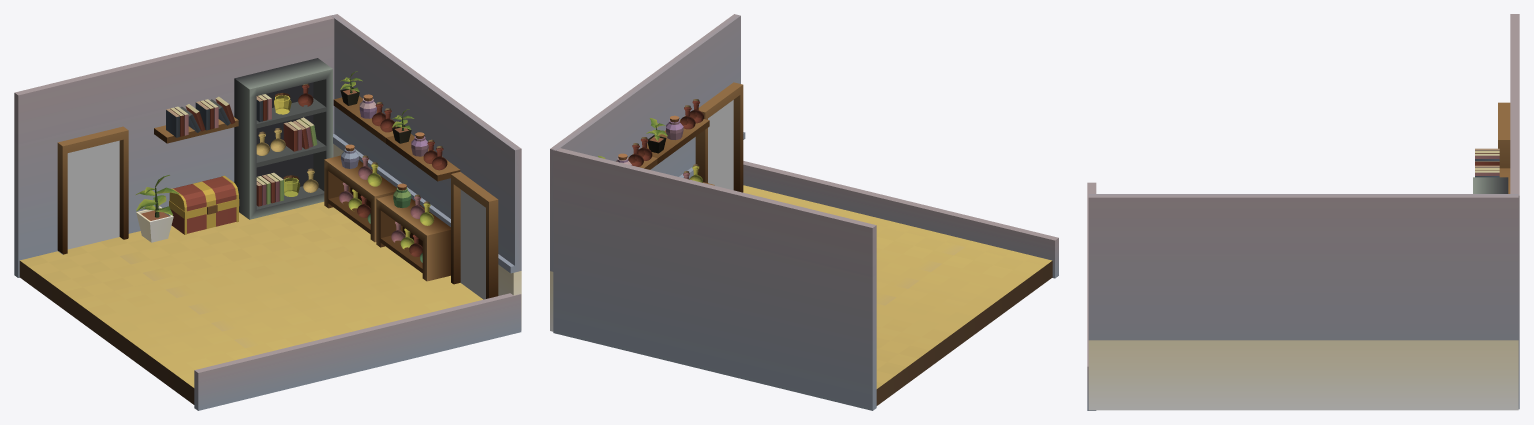
File: base_crafting.glb
3 views of the same model, side by side, from view 1: azimuth 30°, elevation 25°; view 2: azimuth 150°, elevation 25°; view 3: azimuth 270°, elevation 25° (orthographic). The views are drawn at different scales.
Parts seen in each view (by area): view 1: Cube, Plane, Plane001, Plane002, Cube014, Plane004, Plane007, Circle002, Circle004, Cube003, Plane009, Plane014 (+4 smaller); view 2: Plane, Cube, Plane001, Plane002, Plane007, Plane009, Plane014; view 3: Plane001, Plane, Plane004, Cube014, Plane002, Plane025.
Part boxes in pixels (x1,y1,x2,y2): Cube: (19,202,482,404); Plane: (14,15,334,277); Plane001: (331,14,521,330); Plane002: (194,293,521,410); Cube014: (234,58,332,219); Plane004: (57,126,128,254); Plane007: (451,172,498,299); Circle002: (376,183,450,281); Circle004: (324,144,396,242); Cube003: (169,175,239,234); Plane009: (386,109,460,181); Plane014: (333,71,397,143); Plane: (553,148,876,410); Cube: (743,185,1052,405); Plane001: (550,14,745,331); Plane002: (743,161,1058,278); Plane007: (695,82,743,192); Plane009: (641,99,709,164); Plane014: (598,137,657,169); Plane001: (1088,194,1518,410); Plane: (1510,14,1519,409); Plane004: (1498,102,1510,168); Cube014: (1473,177,1508,193); Plane002: (1087,182,1096,410); Plane025: (1475,148,1499,165).
Bounding box in the file's own units: 3.4 × 1.88 × 3.36.
Materials: 2 (1 with a texture image).
